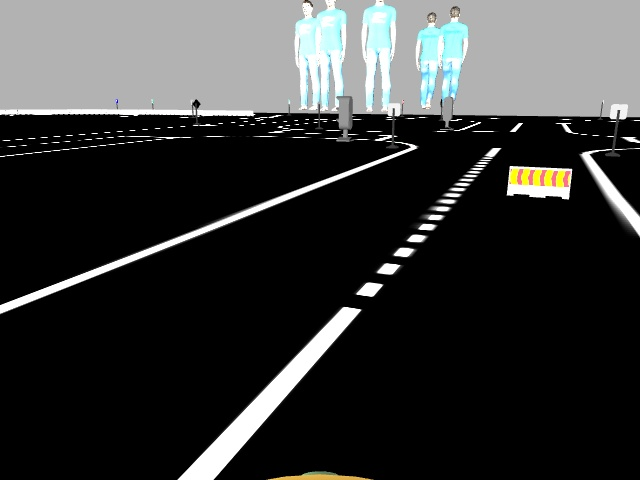ClosedRoadStand: (507, 166, 569, 195)
